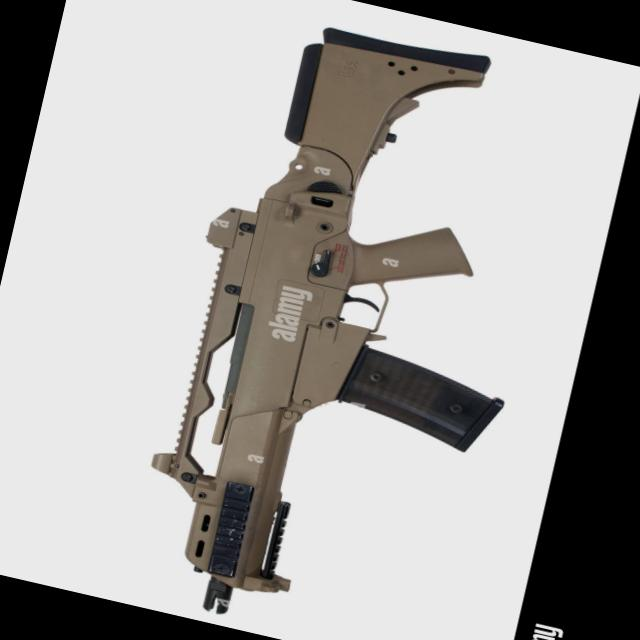long weapon: (104, 0, 563, 639)
